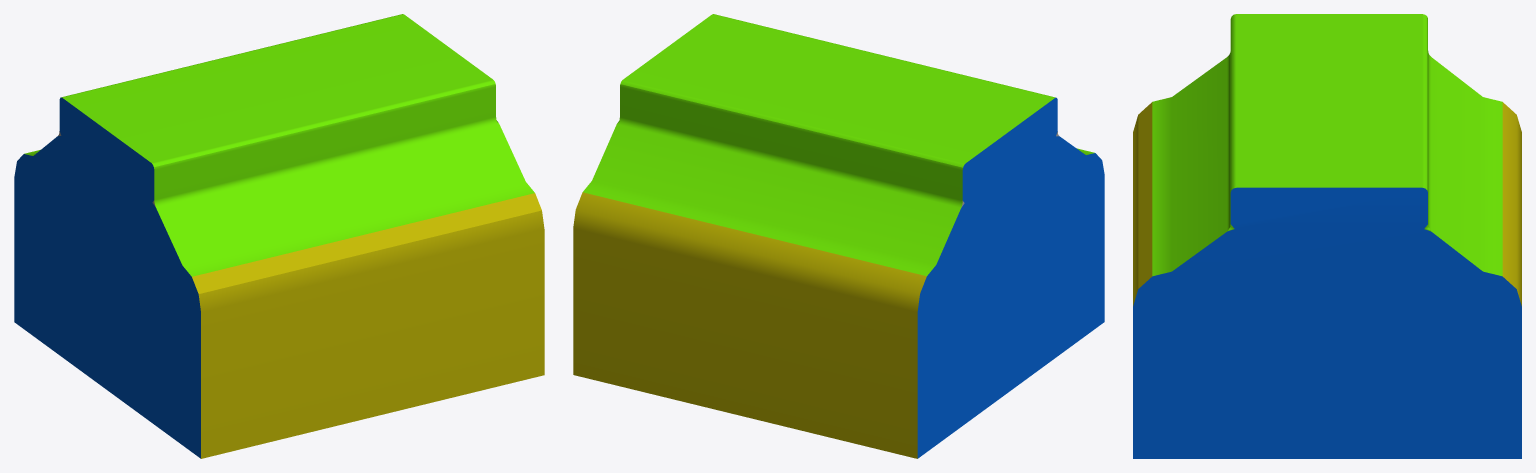
File: Weird_House2.fbx
3 views of the same model, side by side, from view 1: azimuth 30°, elevation 25°; view 2: azimuth 150°, elevation 25°; view 3: azimuth 270°, elevation 25° (orthographic). The views are drawn at different scales.
Visible parts, largest first — view 1: pCube77; view 2: pCube77; view 3: pCube77.
Boxes of the visible parts, bbox=[...] form: pCube77: bbox=[14, 14, 544, 458]; pCube77: bbox=[573, 14, 1104, 458]; pCube77: bbox=[1133, 14, 1521, 458].
Size of the model in its own units: 127 by 92.08 by 120.
